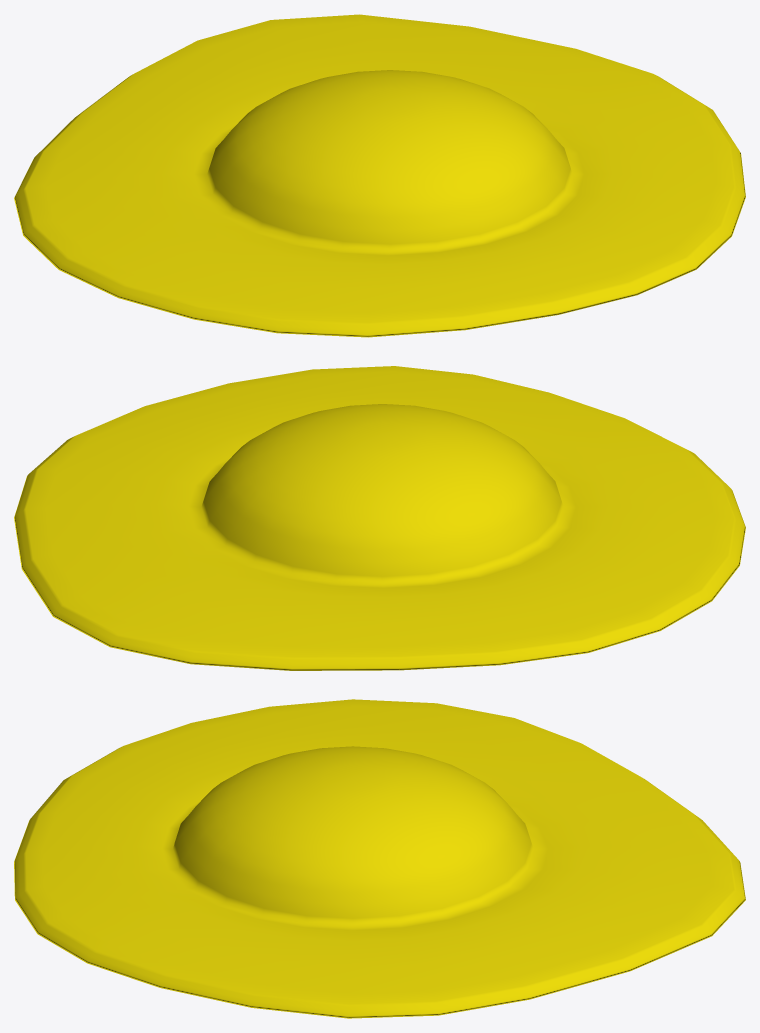
File: Fried_Egg.fbx
3 views of the same model, one above another, from view 1: azimuth 30°, elevation 25°; view 2: azimuth 150°, elevation 25°; view 3: azimuth 270°, elevation 25° (orthographic).
Visible parts, largest first — view 1: Fried_Egg; view 2: Fried_Egg; view 3: Fried_Egg.
Boxes of the visible parts, x1=… form: Fried_Egg: x1=14, y1=14, x2=745, y2=337; Fried_Egg: x1=14, y1=366, x2=745, y2=670; Fried_Egg: x1=14, y1=699, x2=745, y2=1018.
Size of the model in its own units: 78.2 by 10.28 by 76.78.
